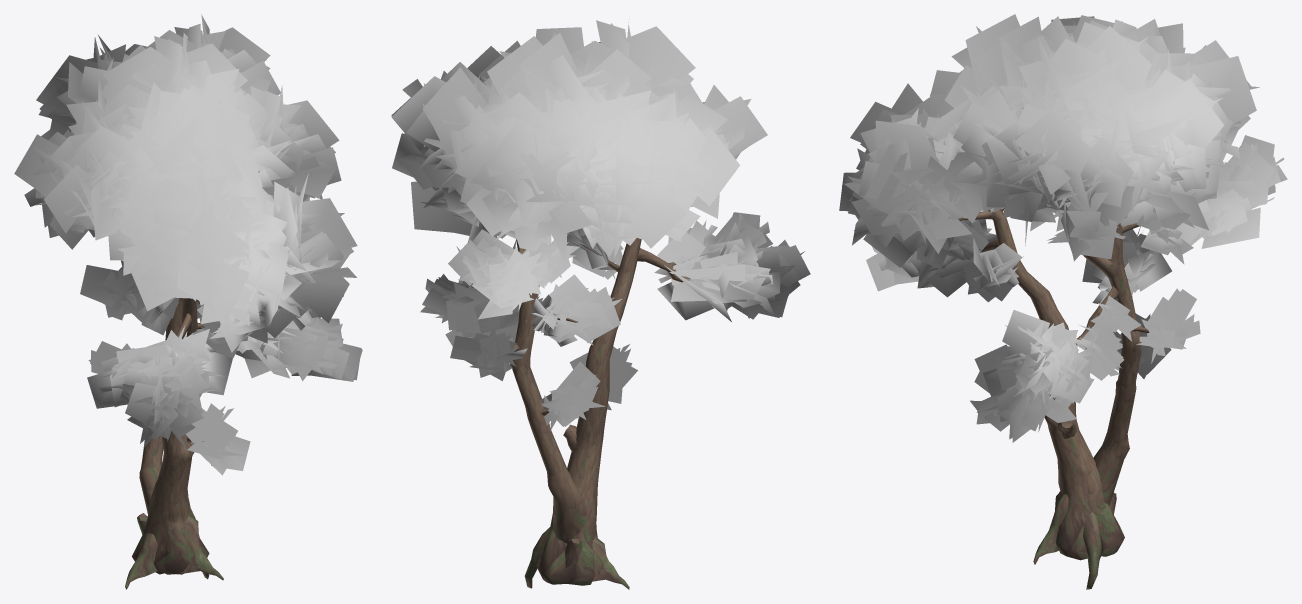
The model's file is SM_EastLands_Conifer_Multi_01.fbx.
The picture shows the model from 3 angles, left to right: view 1: azimuth 30°, elevation 25°; view 2: azimuth 150°, elevation 25°; view 3: azimuth 270°, elevation 25°; orthographic projection. The views are drawn at different scales.
Parts seen in each view (by area): view 1: SM_EastLands_Conifer_Multi_01_LOD0; view 2: SM_EastLands_Conifer_Multi_01_LOD0; view 3: SM_EastLands_Conifer_Multi_01_LOD0.
Part boxes in pixels (left/top/right/bottom): SM_EastLands_Conifer_Multi_01_LOD0: left=14, top=14, right=362, bottom=589; SM_EastLands_Conifer_Multi_01_LOD0: left=391, top=19, right=810, bottom=589; SM_EastLands_Conifer_Multi_01_LOD0: left=839, top=14, right=1287, bottom=589.
Bounding box in the file's own units: 1612 × 2738 × 1995.
